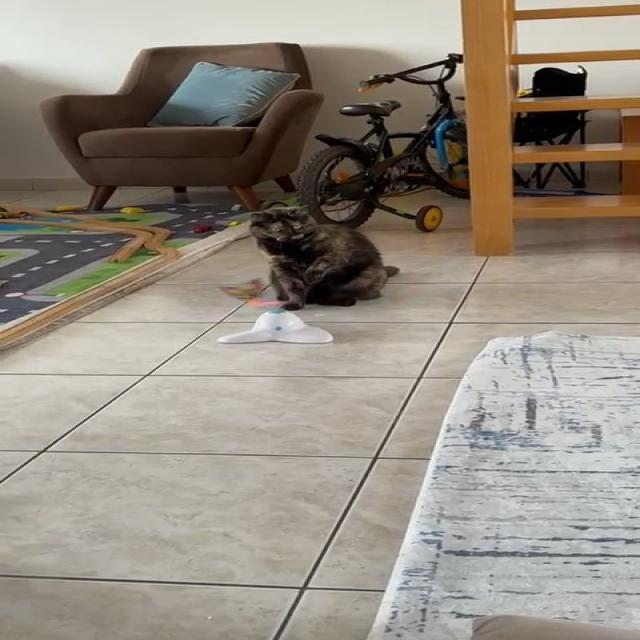authorized: (248, 205, 399, 310)
